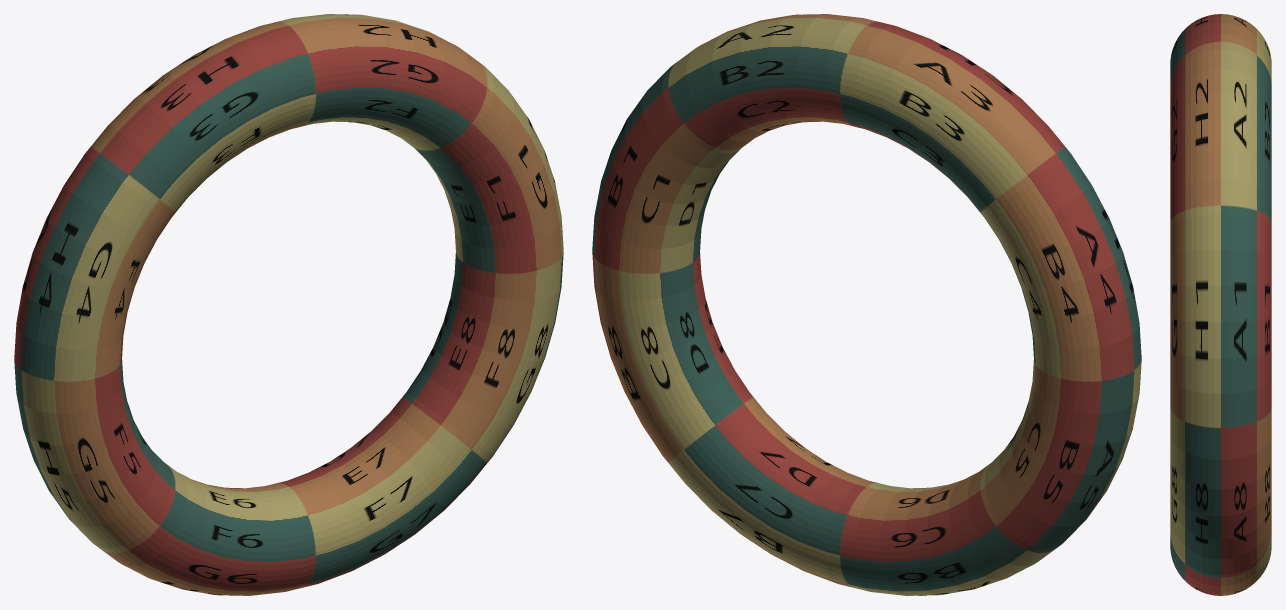
The model's file is texture_torus_R20_r11.glb.
3 views of the same model, side by side, from view 1: azimuth 30°, elevation 25°; view 2: azimuth 150°, elevation 25°; view 3: azimuth 270°, elevation 25° (orthographic). The views are drawn at different scales.
Visible parts, largest first — view 1: world; view 2: world; view 3: world.
Boxes of the visible parts, <box> form: world: <box>14,14,563,595</box>; world: <box>592,14,1141,595</box>; world: <box>1170,14,1271,595</box>.
Bounding box in the file's own units: 28.27 × 28.21 × 4.92.
1 material, 1 textured.
